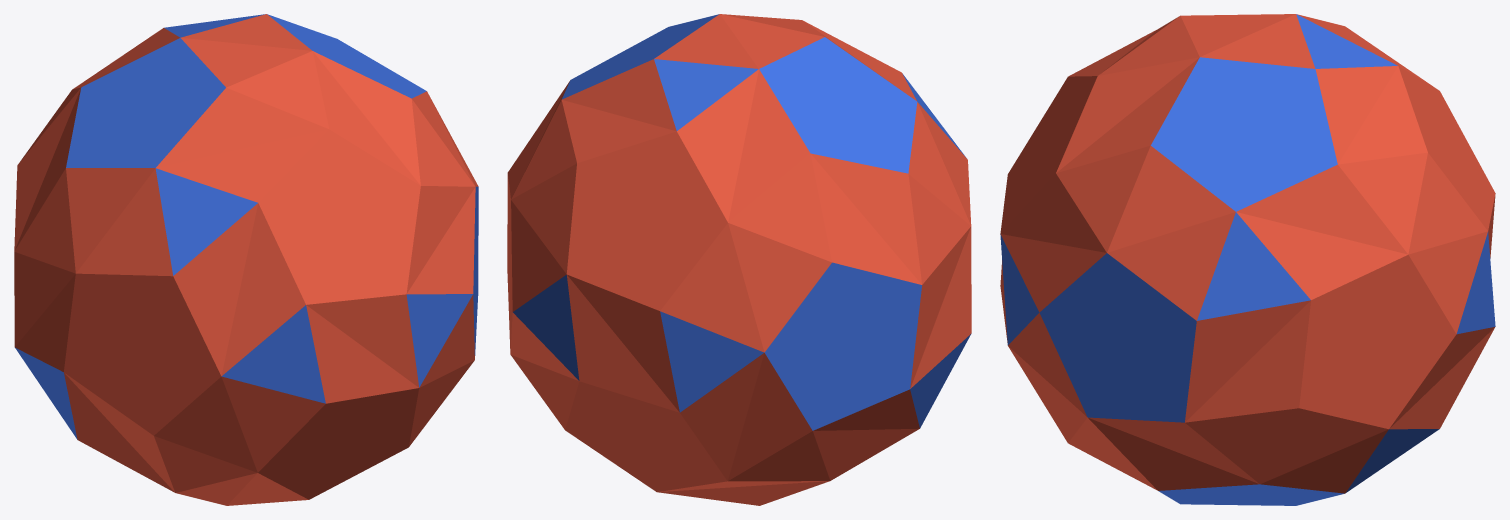
The model's file is rhombicosa_color.obj.
The picture shows the model from 3 angles, left to right: view 1: azimuth 30°, elevation 25°; view 2: azimuth 150°, elevation 25°; view 3: azimuth 270°, elevation 25°; orthographic projection. The views are drawn at different scales.
Size of the model in its own units: 1.92 by 1.92 by 1.92.
